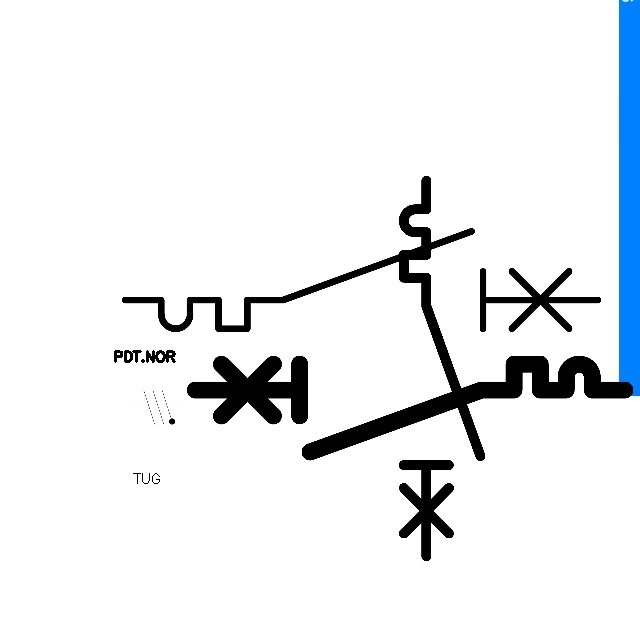interruptor_termomagnetico: (113, 219, 610, 341), (184, 353, 636, 463), (394, 171, 490, 566)
